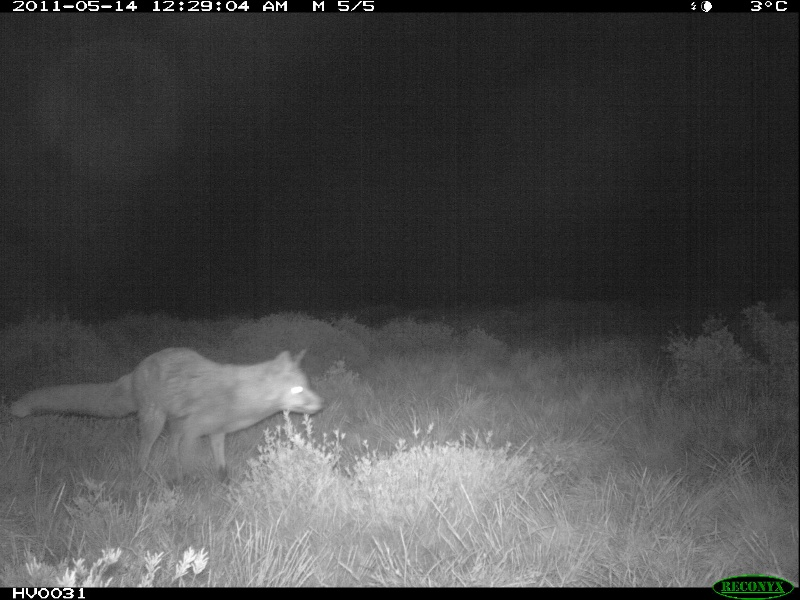fox: (10, 344, 333, 489)
